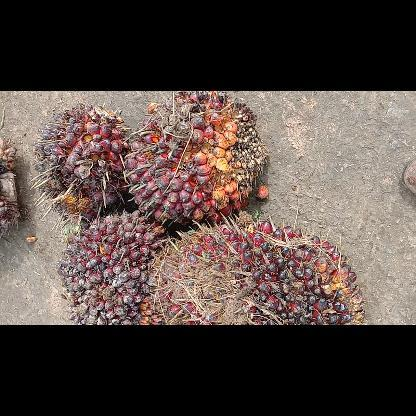Kurang masak: (146, 210, 366, 324), (56, 210, 172, 324)
TBS masak: (124, 91, 272, 231), (30, 101, 132, 221)
